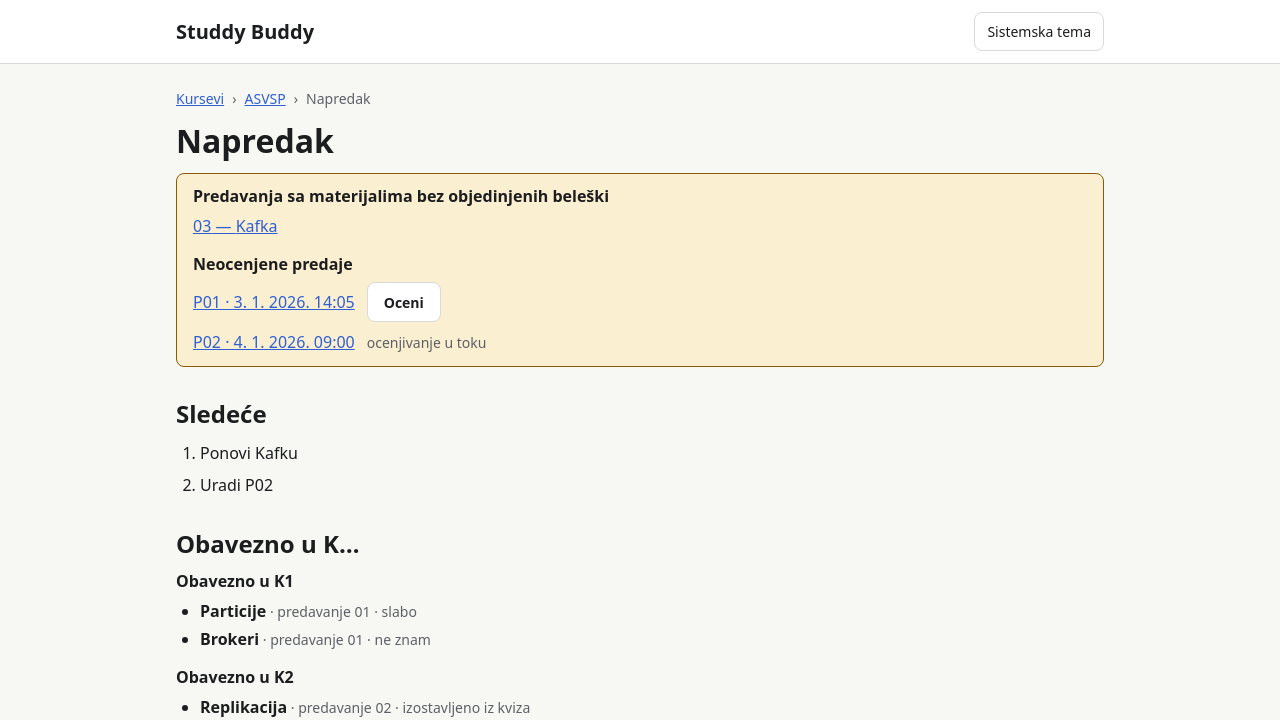
ProgressPage › session-start flags › shows a 409 inline
Click the button "Oceni" at (404, 302), box [367, 282, 441, 322]
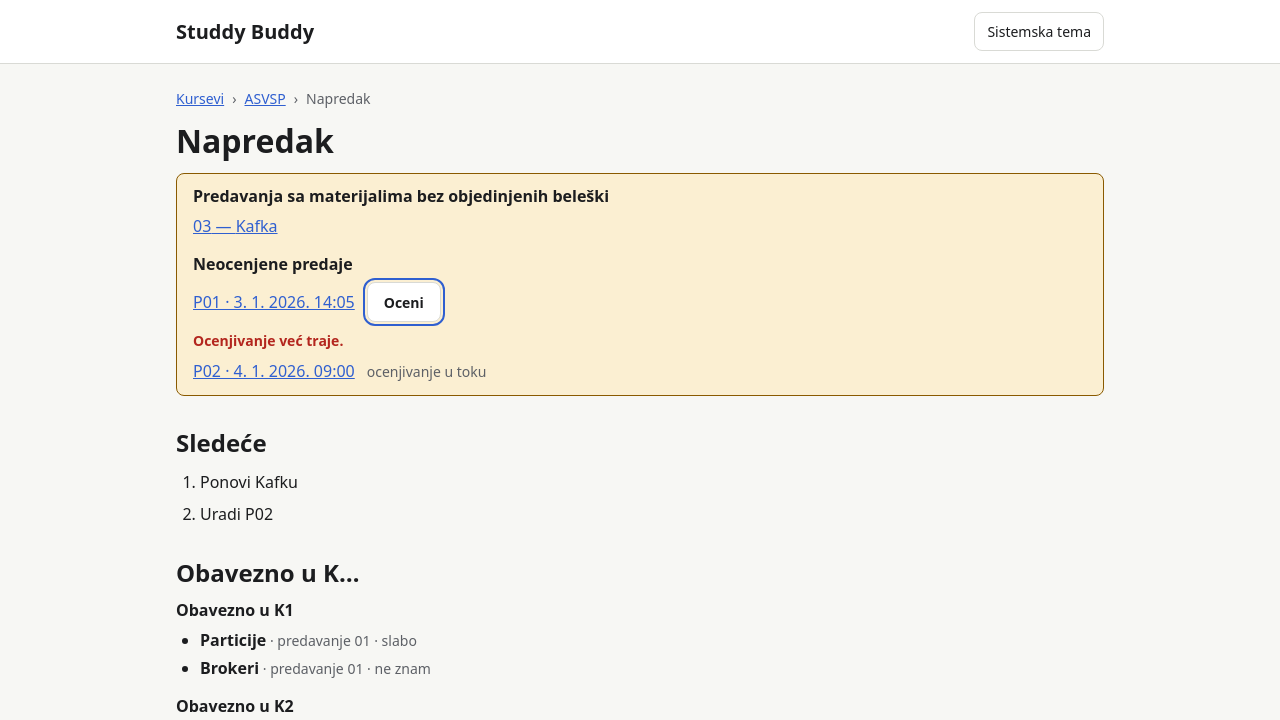
Expected: the message reads "Ocenjivanje već traje.", [193, 331, 343, 350]
